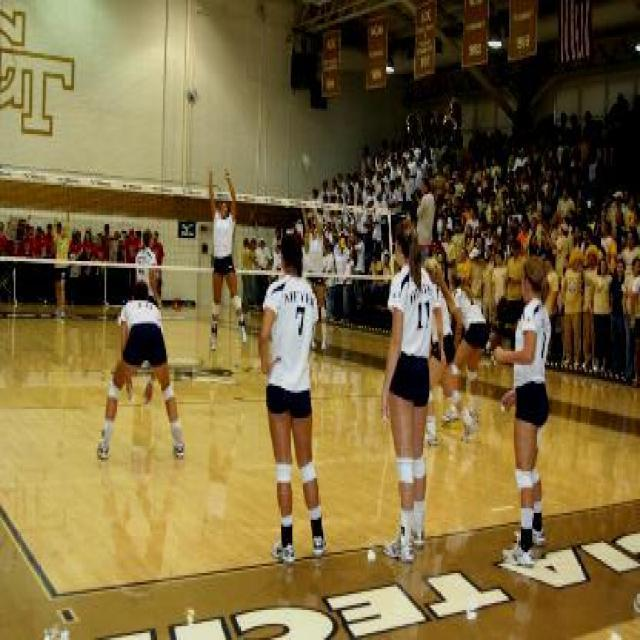volleyball: (185, 89, 198, 103)
